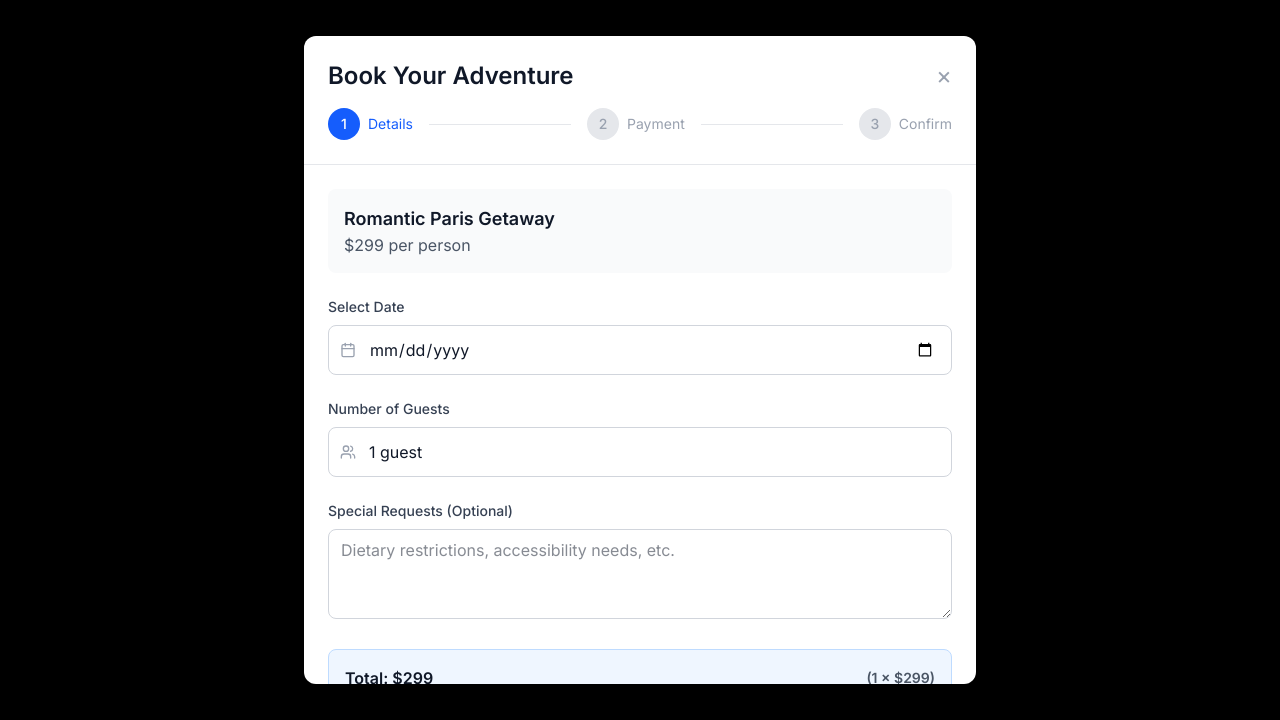
Test case: BookingFlow Component › navigates to Payment step
This screenshot has width=1280, height=720.
Type "2024-12-25" into the date field labelled "Select Date" at (640, 350), box [328, 325, 952, 375]
(page scrolled)
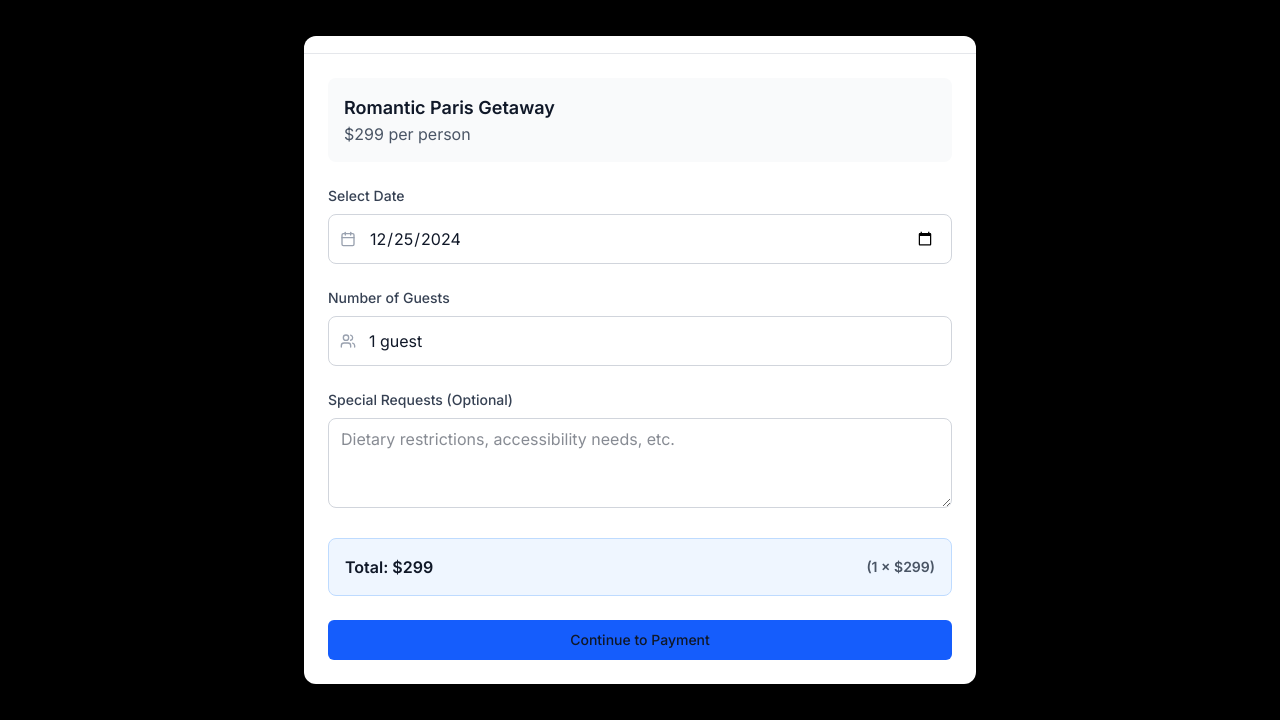
Click the button "Continue to Payment" at (640, 640), box [328, 620, 952, 660]
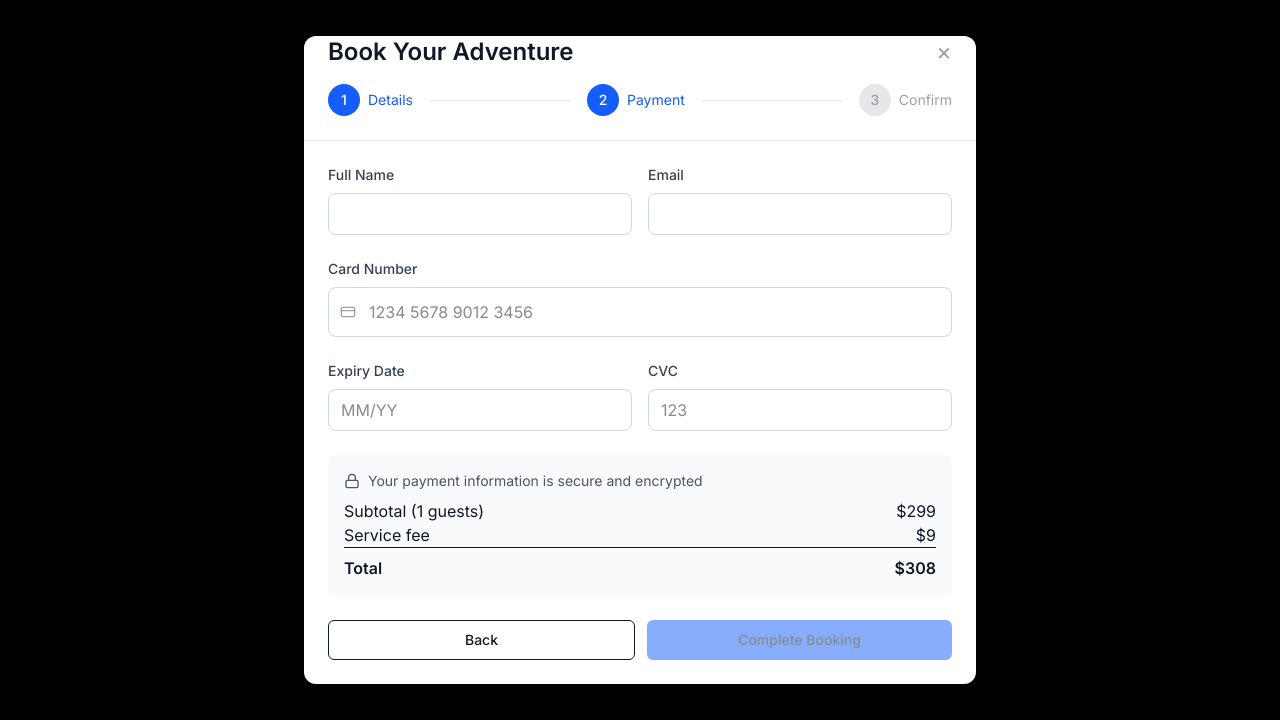
Check: the field labelled "Card Number" is shown, box [328, 287, 952, 337]
Check: the field labelled "Full Name" is shown, box [328, 193, 632, 235]
